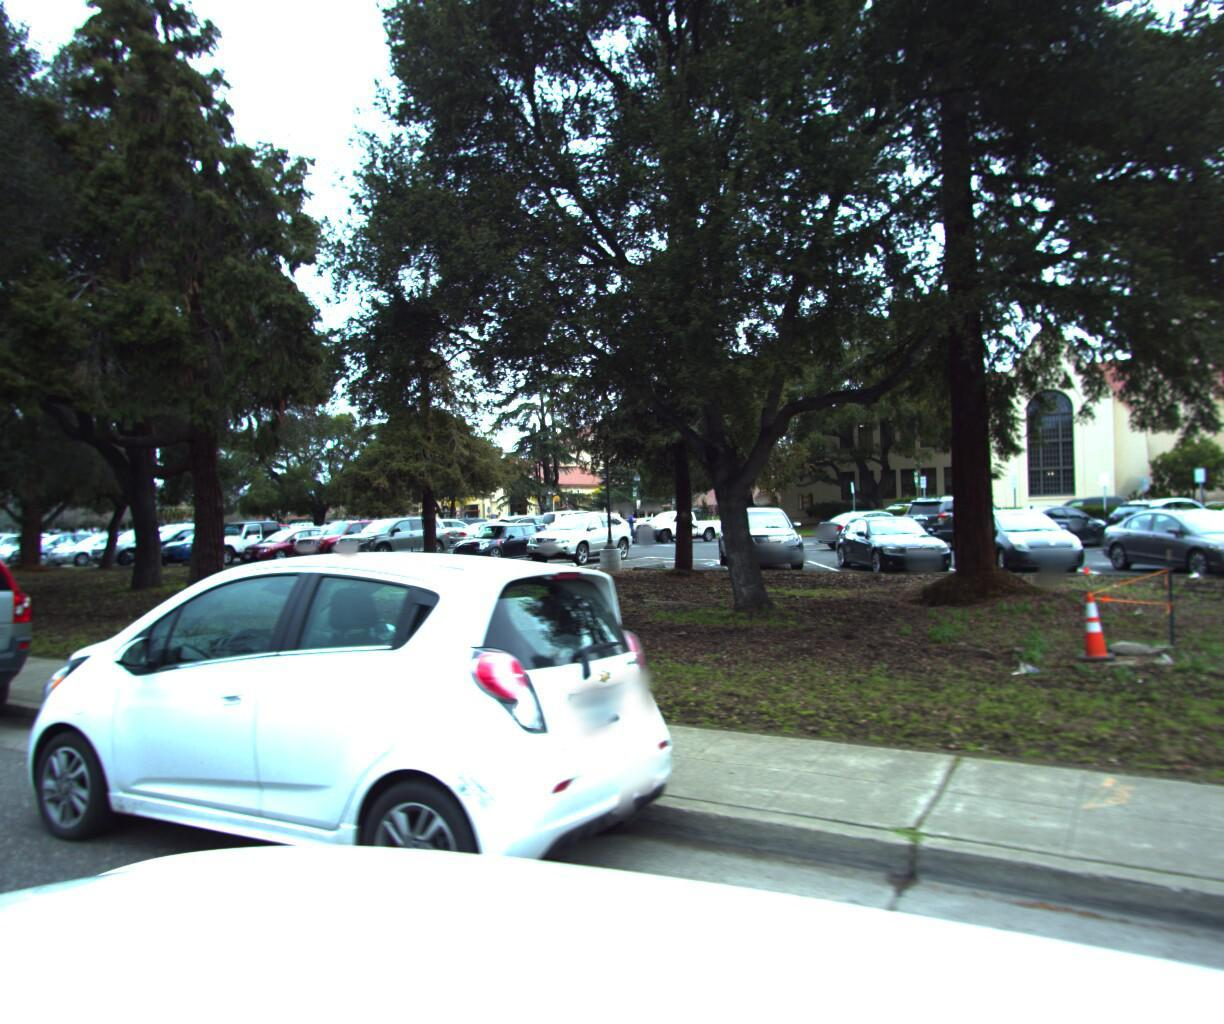car: (0, 544, 694, 988), (0, 508, 55, 796)
